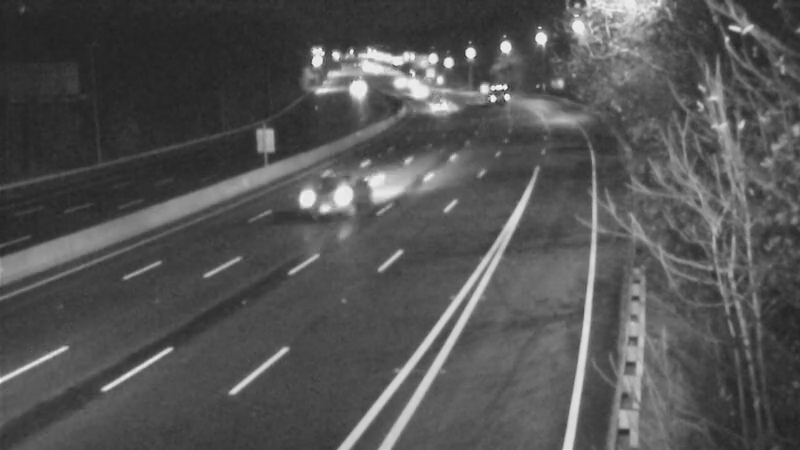vehicle: (280, 161, 360, 241), (469, 66, 519, 116), (393, 64, 443, 114), (416, 86, 466, 136), (334, 68, 384, 118)
